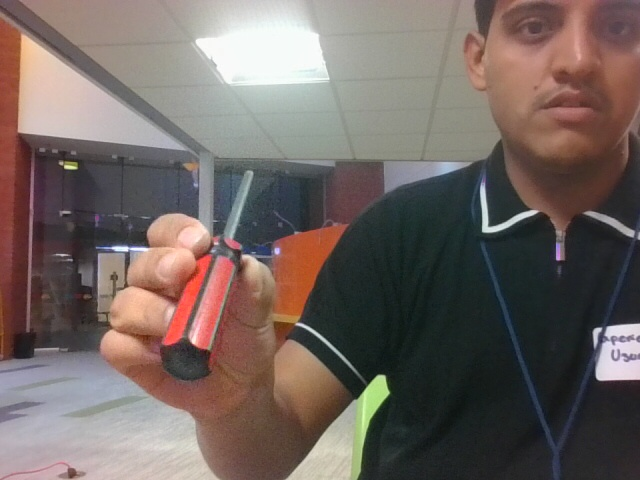destornillador: (159, 169, 253, 381)
